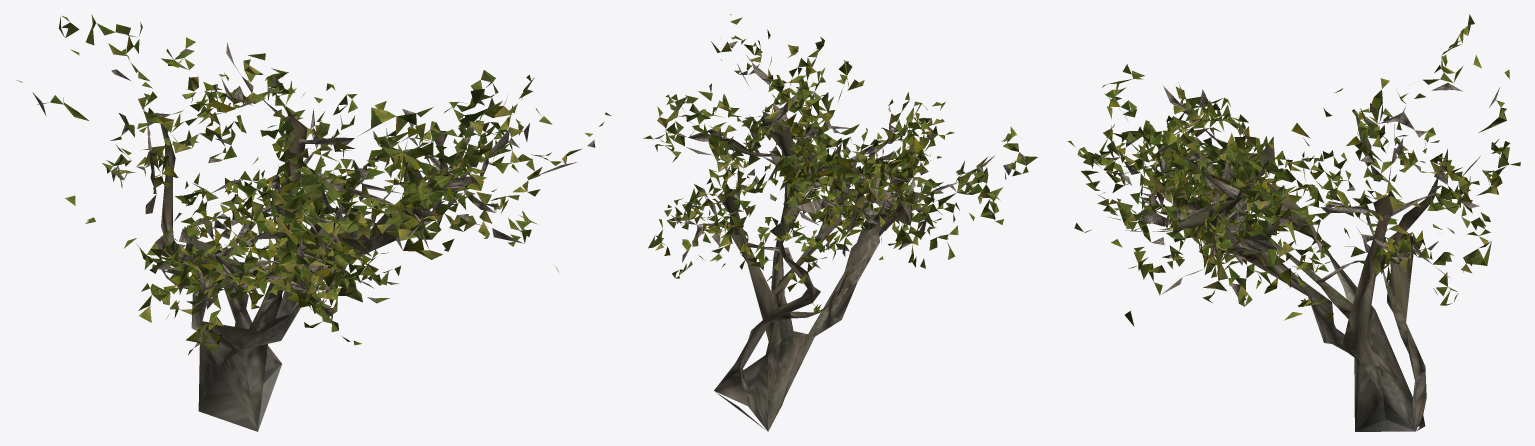
Rendered from island_tree_02_lod.glb.
3 views of the same model, side by side, from view 1: azimuth 30°, elevation 25°; view 2: azimuth 150°, elevation 25°; view 3: azimuth 270°, elevation 25° (orthographic). The views are drawn at different scales.
Visible parts, largest first — view 1: island_tree_02_LOD0; view 2: island_tree_02_LOD0; view 3: island_tree_02_LOD0.
Part boxes in pixels (x1,y1,x2,y2): island_tree_02_LOD0: (16, 14, 610, 431); island_tree_02_LOD0: (643, 14, 1037, 431); island_tree_02_LOD0: (1068, 14, 1520, 431).
Bounding box in the file's own units: 6.91 × 6.32 × 7.16.
Materials: 3 (3 with a texture image).
